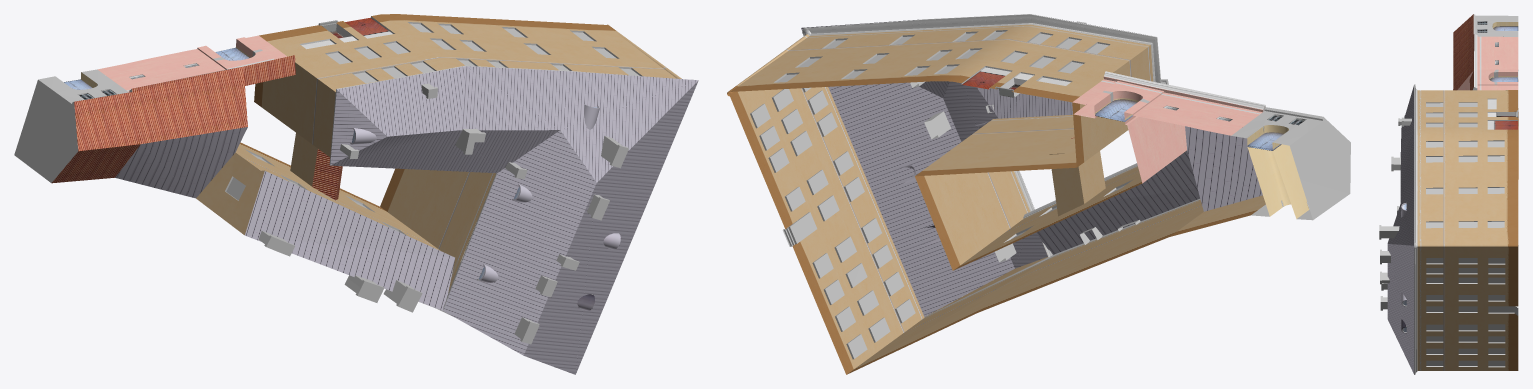
File: Lai-13.obj
3 views of the same model, side by side, from view 1: azimuth 30°, elevation 25°; view 2: azimuth 150°, elevation 25°; view 3: azimuth 270°, elevation 25° (orthographic). The views are drawn at different scales.
Parts seen in each view (by area): view 1: Lai_13; view 2: Lai_13; view 3: Lai_13.
Boxes of the visible parts, bbox=[...] form: Lai_13: bbox=[14, 14, 698, 374]; Lai_13: bbox=[727, 14, 1350, 374]; Lai_13: bbox=[1379, 14, 1518, 374].
Bounding box in the file's own units: 60 × 33.28 × 19.02.
